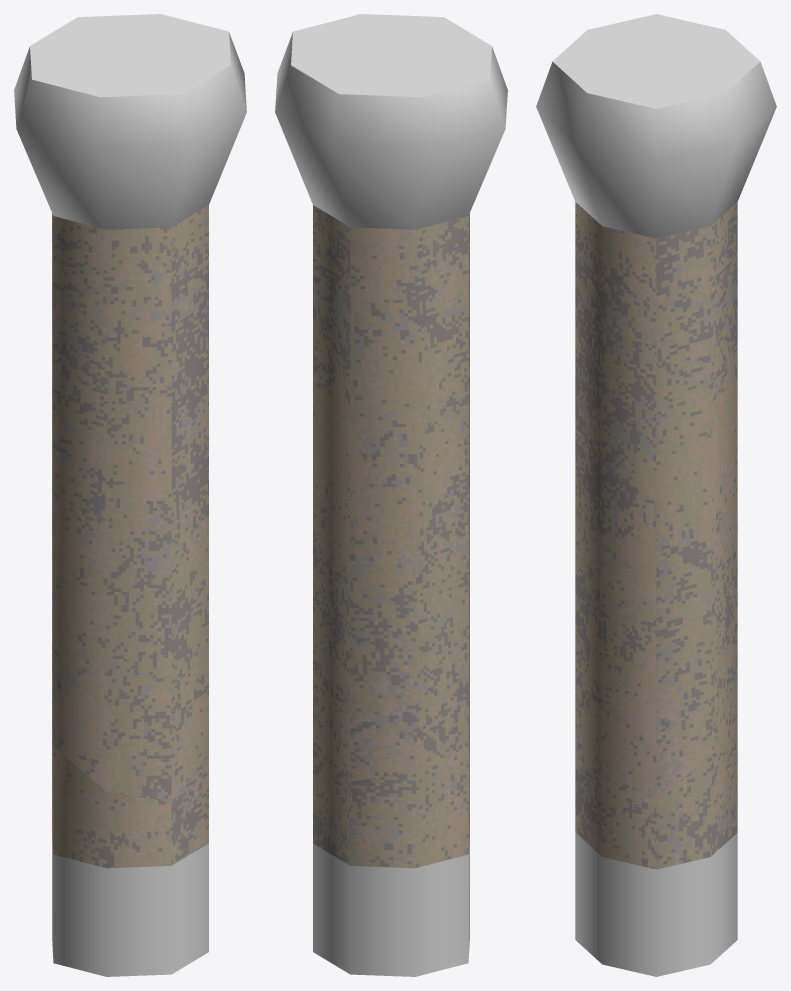
File: broken pillar.fbx
3 renders of one model, left to right at view 1: azimuth 30°, elevation 25°; view 2: azimuth 150°, elevation 25°; view 3: azimuth 270°, elevation 25°, orthographic.
Parts seen in each view (by area): view 1: RoundPillar.001, RoundPillar; view 2: RoundPillar.001, RoundPillar; view 3: RoundPillar.001, RoundPillar.
Part boxes in pixels (x1,y1,x2,y2): RoundPillar.001: (14, 14, 246, 801); RoundPillar: (52, 734, 208, 976); RoundPillar.001: (275, 14, 507, 781); RoundPillar: (313, 739, 469, 976); RoundPillar.001: (536, 14, 776, 802); RoundPillar: (575, 749, 737, 976).
Bounding box in the file's own units: 81.54 × 304 × 75.44.
